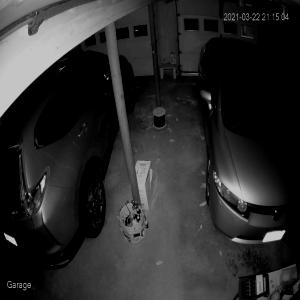honda civic: (198, 36, 300, 245)
honda crv: (0, 49, 136, 270)
tool bucket: (116, 198, 148, 246)
